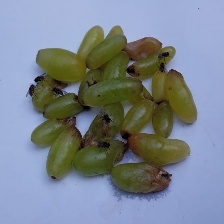grapes: (39, 20, 212, 186)
